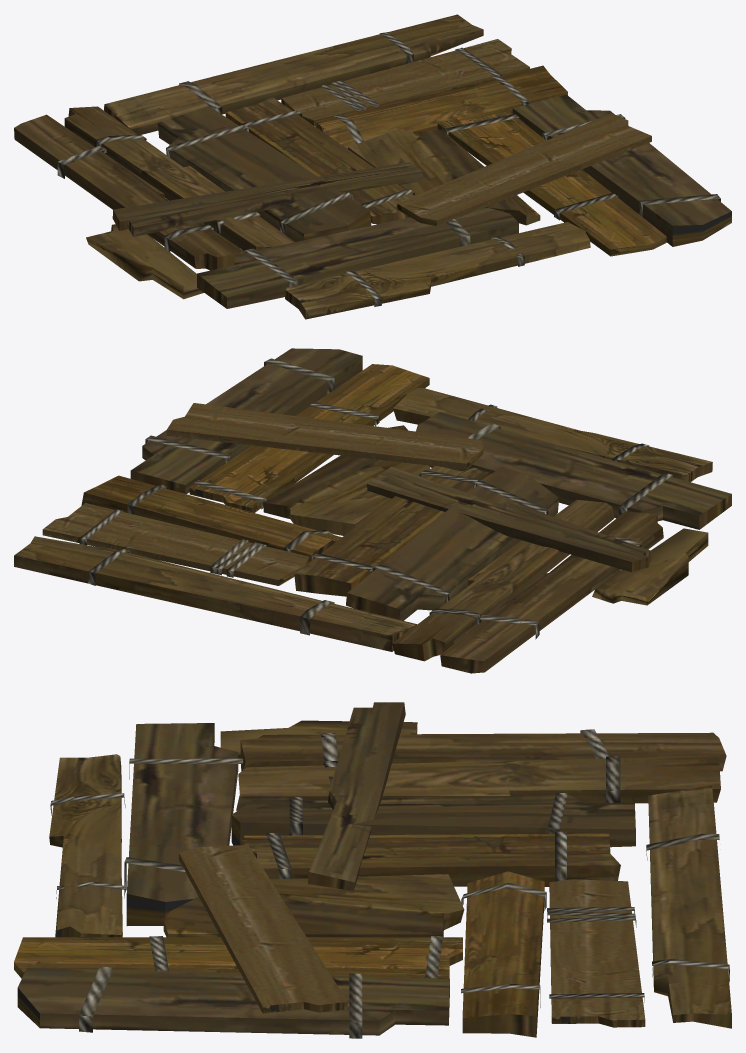
File: 6001_Item_mutou_9.FBX
The picture shows the model from 3 angles, top to bottom: view 1: azimuth 30°, elevation 25°; view 2: azimuth 150°, elevation 25°; view 3: azimuth 270°, elevation 25°; orthographic projection. The views are drawn at different scales.
Visible parts, largest first — view 1: 6001_Item_mutou_9; view 2: 6001_Item_mutou_9; view 3: 6001_Item_mutou_9.
Part boxes in pixels (box(x1,y1,x2,y2)): 6001_Item_mutou_9: box(14, 14, 731, 319); 6001_Item_mutou_9: box(14, 348, 731, 673); 6001_Item_mutou_9: box(14, 702, 731, 1038).
Bounding box in the file's own units: 169 × 162 × 12.3.
1 material, 1 textured.
